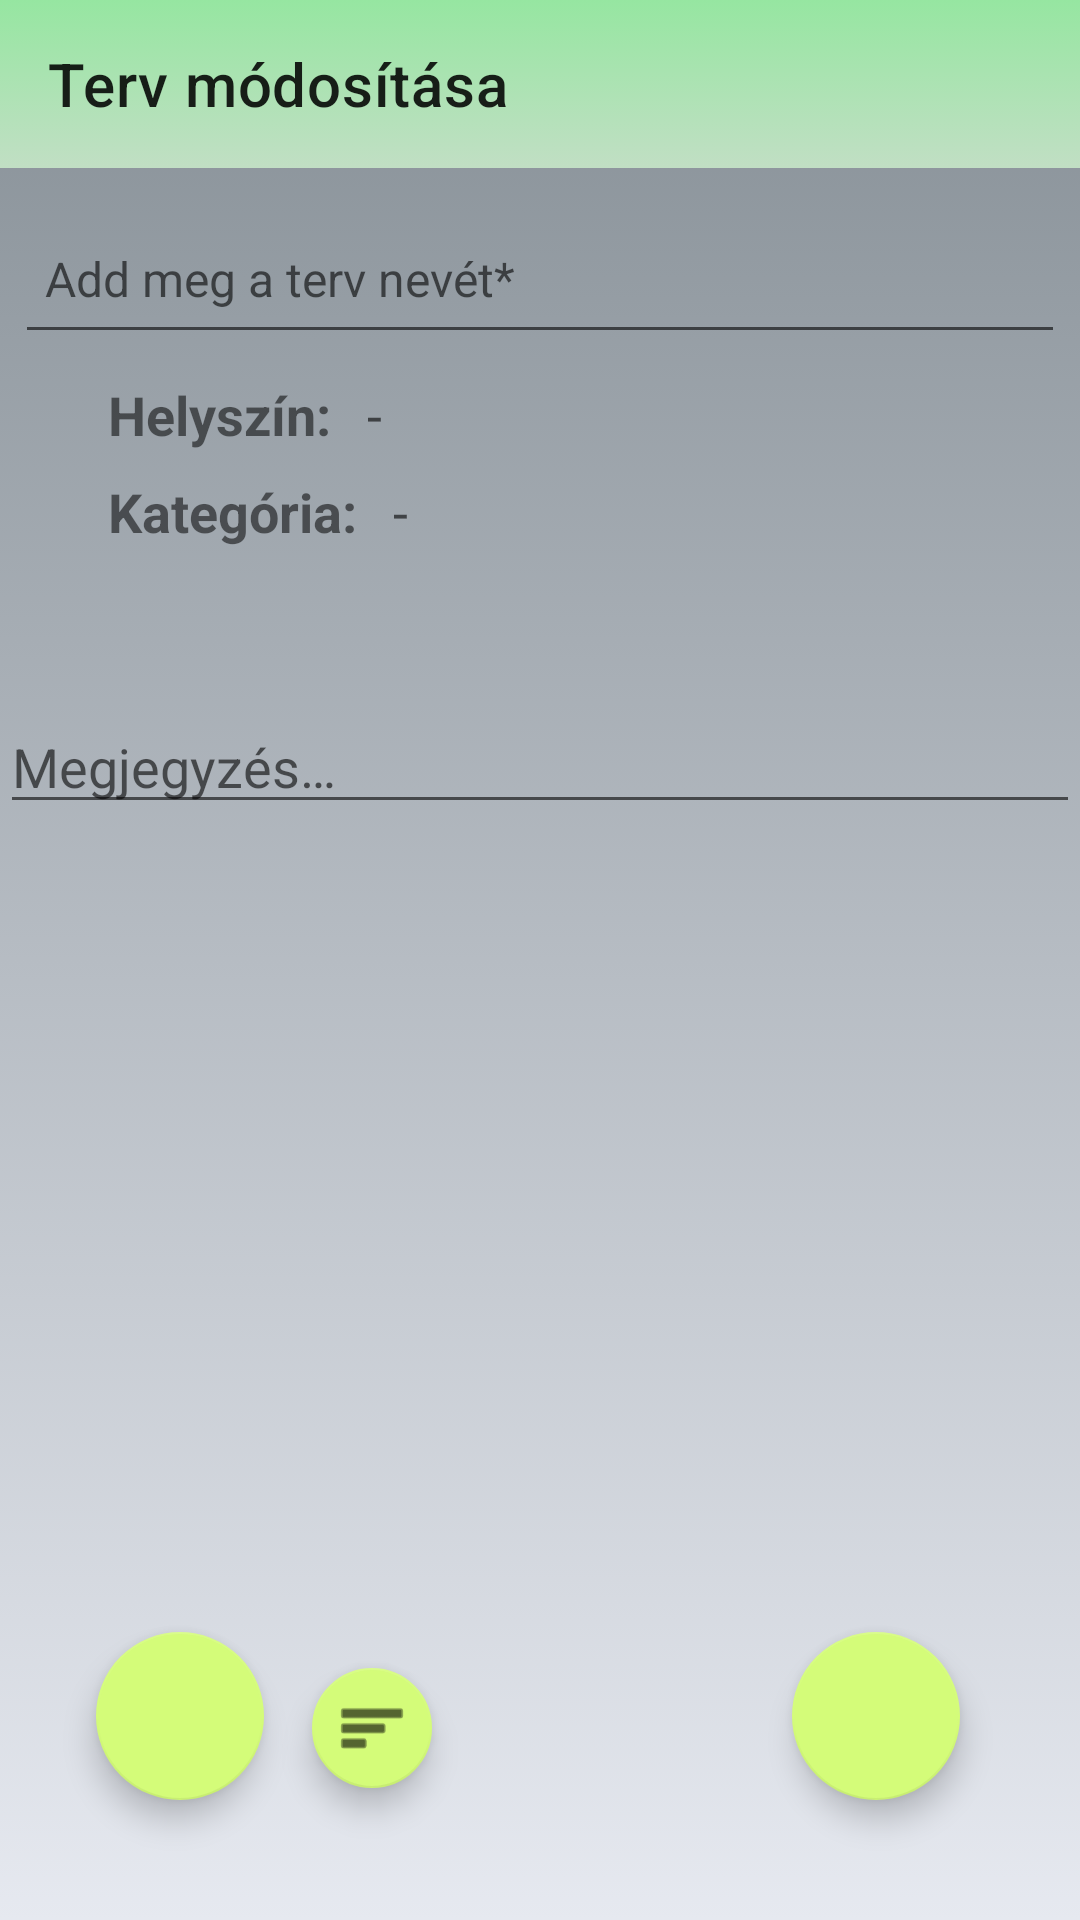

Icons on this 1080*1920 Android screen, each with its box as (x1, y1, x2, y2):
sort by size: (312, 1668, 432, 1798)
